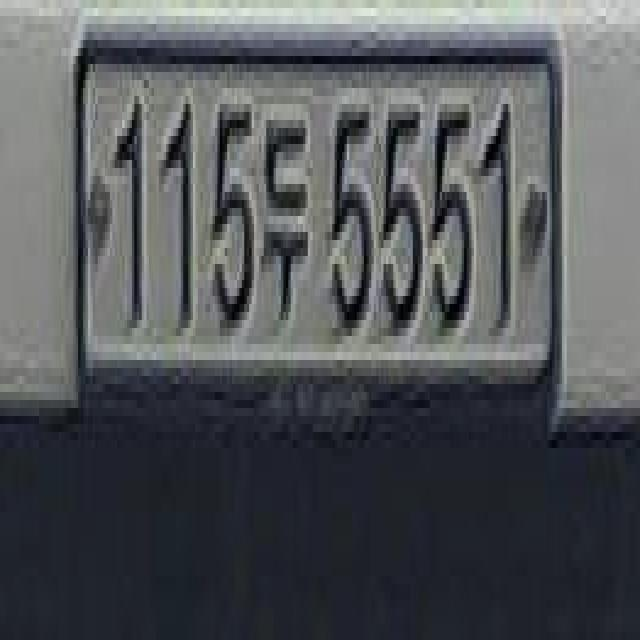illegal_plate: (72, 8, 563, 449)
